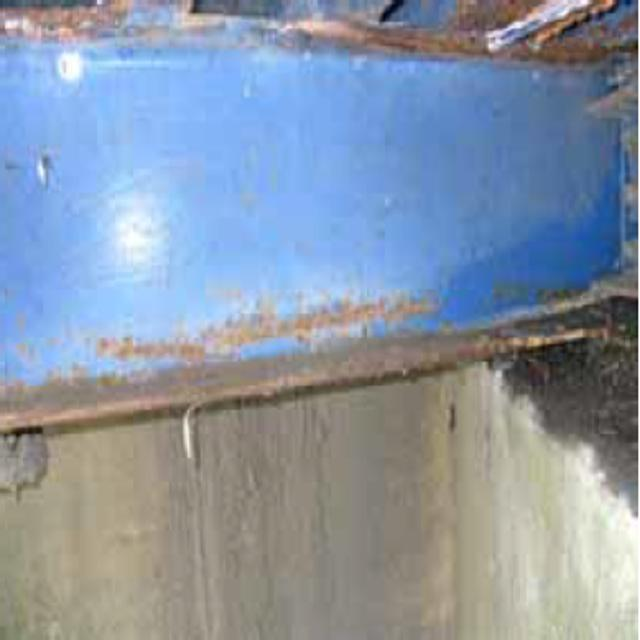corrosion: (13, 304, 537, 412), (6, 3, 618, 63)
